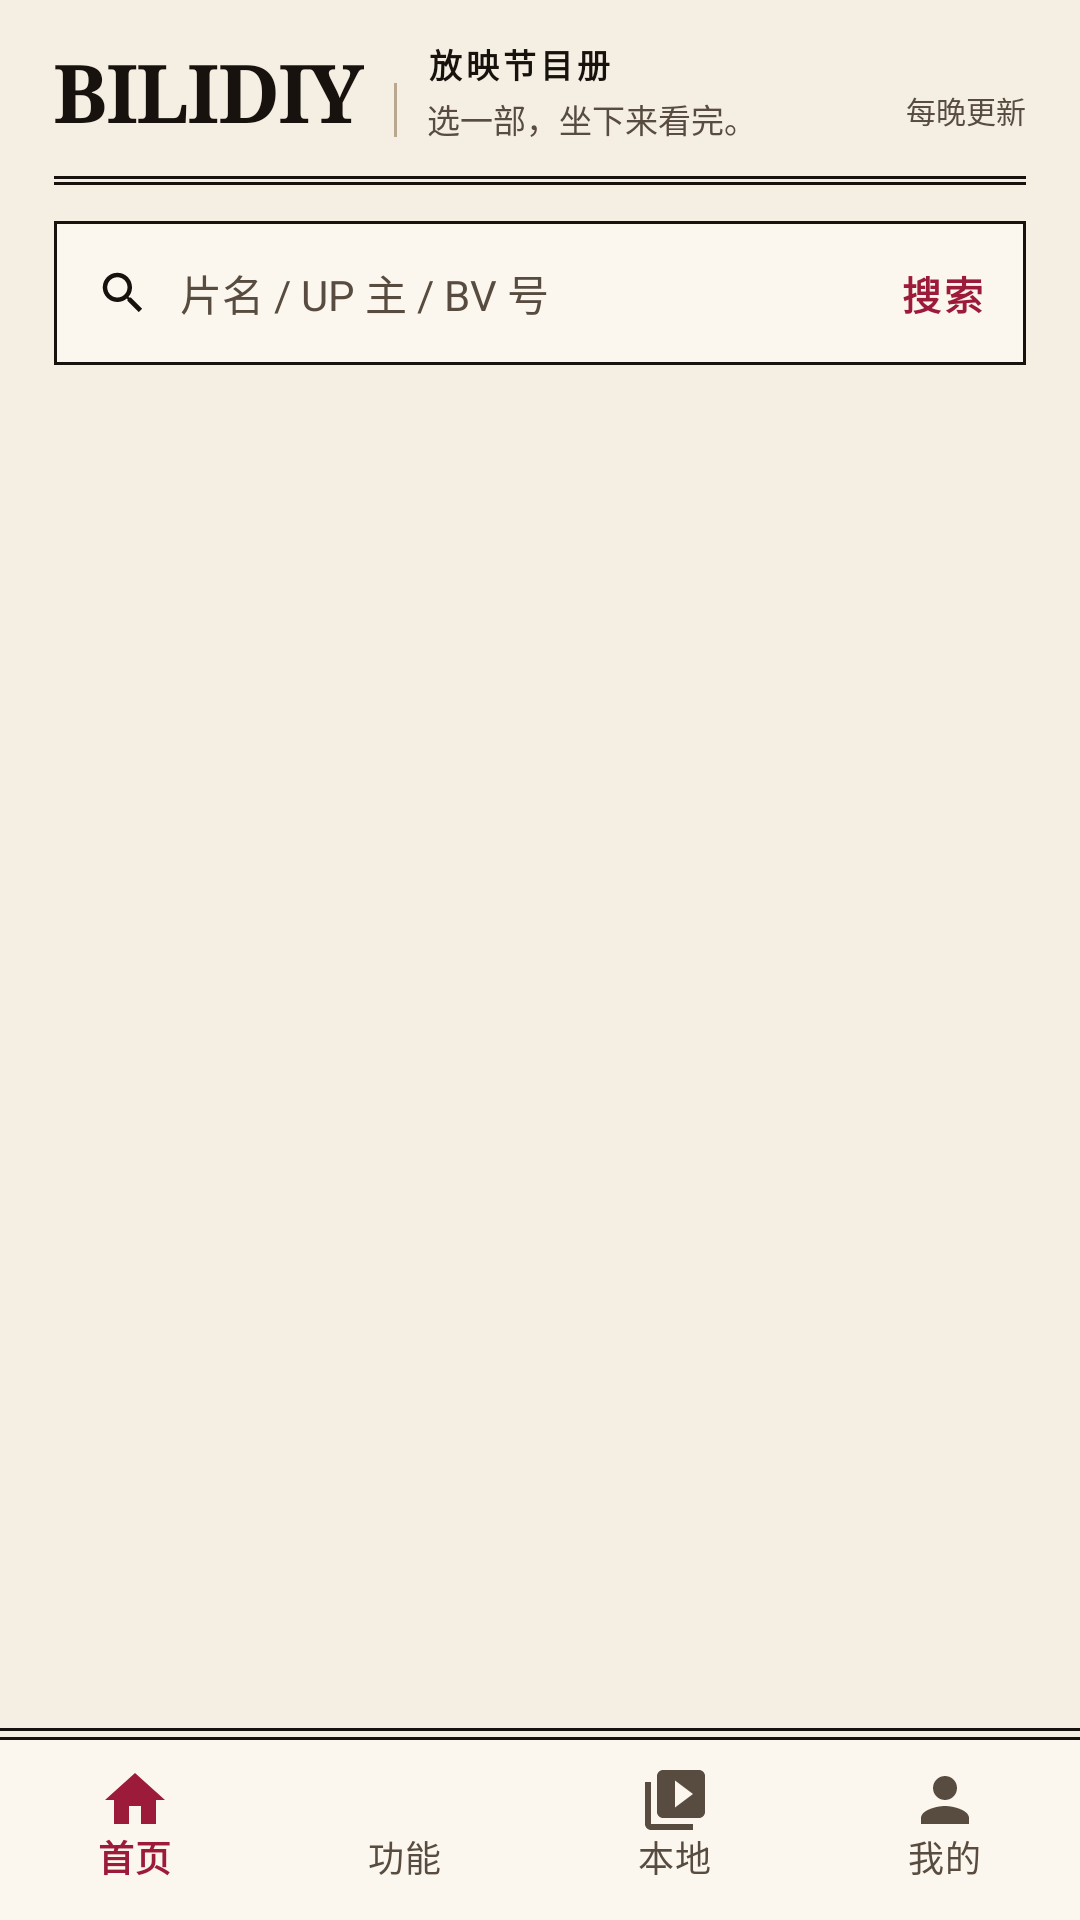

Locate icon controls on the screen. Image size 1080 × 1920, boxes as (x1, y1, x2, y2).
search: (102, 272, 142, 312)
